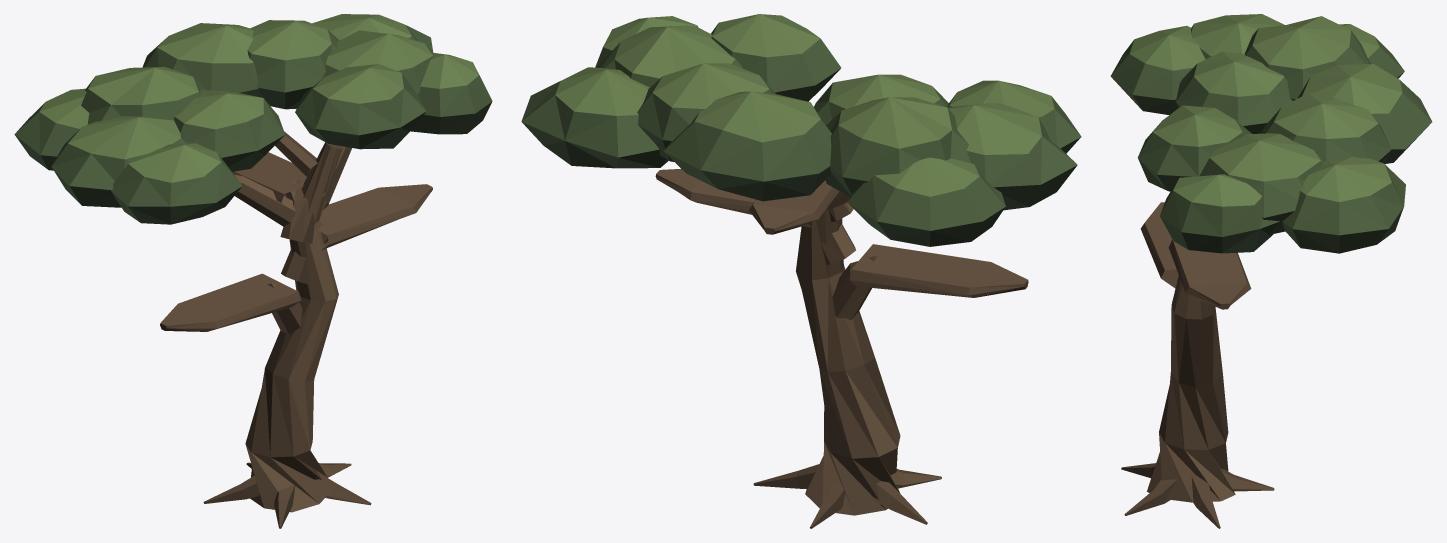
The model's file is tree_ancient.glb.
3 renders of one model, left to right at view 1: azimuth 30°, elevation 25°; view 2: azimuth 150°, elevation 25°; view 3: azimuth 270°, elevation 25°, orthographic. The views are drawn at different scales.
Visible parts, largest first — view 1: Canopy_Ancient, Body_tree_ancient.001; view 2: Canopy_Ancient, Body_tree_ancient.001; view 3: Canopy_Ancient, Body_tree_ancient.001.
Boxes of the visible parts, left/top/right/bottom form: Canopy_Ancient: left=14, top=14, right=492, bottom=224; Body_tree_ancient.001: left=160, top=131, right=432, bottom=528; Canopy_Ancient: left=521, top=14, right=1081, bottom=246; Body_tree_ancient.001: left=655, top=169, right=1028, bottom=528; Canopy_Ancient: left=1110, top=14, right=1432, bottom=253; Body_tree_ancient.001: left=1121, top=202, right=1274, bottom=528.
Bounding box in the file's own units: 9.65 × 8.96 × 6.19.
